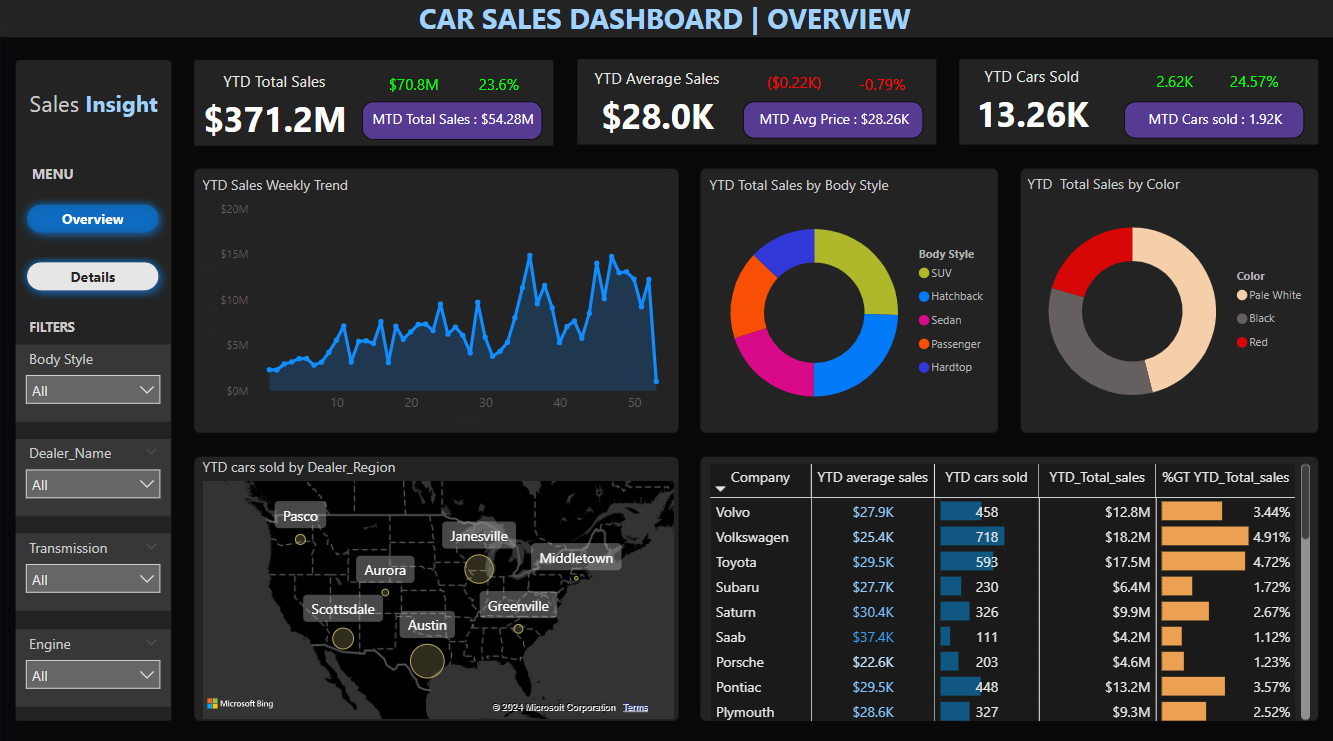

The page's visual inventory and layout, read from the dashboard file:
{"tool":"powerbi","page":{"name":"Overview","canvas":[1280,720],"ordinal":0},"visuals":[{"type":"card","title":"YTD Total Sales","fields":{"Values":["car_data.YTD_Total_sales"]},"box":[189.3,71.2,148.4,72.7],"z":0},{"type":"card","fields":{"Values":["car_data.sales difference"]},"box":[358.9,71.2,75.7,30.3],"z":1000},{"type":"card","fields":{"Values":["car_data.Sales difference percentage"]},"box":[434.6,71.2,89.3,30.3],"z":2000},{"type":"card","fields":{"Values":["car_data.MTD KPI"]},"box":[348.3,101.5,172.6,36.3],"z":3000},{"type":"card","title":"YTD Average Sales","fields":{"Values":["car_data.YTD average sales"]},"box":[555.7,69.7,148.4,72.7],"z":4000},{"type":"card","fields":{"Values":["car_data.YOY avg price growth"]},"box":[807.1,71.2,75.7,30.3],"z":5000},{"type":"card","fields":{"Values":["car_data.MTD avg KPI"]},"box":[712.6,102.5,172.9,35.2],"z":6000},{"type":"card","fields":{"Values":["car_data.Avg price diff"]},"box":[722.2,70.5,76.9,30.4],"z":7000},{"type":"card","title":"YTD Cars Sold","fields":{"Values":["car_data.YTD cars sold"]},"box":[916.1,68.1,148.4,72.7],"z":8000},{"type":"card","fields":{"Values":["car_data.Cars sold diff"]},"box":[1087.3,68.9,76.9,30.4],"z":9000},{"type":"card","fields":{"Values":["car_data.YOY cars sold growth"]},"box":[1164.2,68.9,76.9,30.4],"z":10000},{"type":"card","fields":{"Values":["car_data.MTD CARS KPI"]},"box":[1077.7,102.5,172.9,35.2],"z":11000},{"type":"areaChart","title":"YTD Sales Weekly Trend","fields":{"Category":["calender Table.Week"],"Y":["Sum(car_data.Price ($))"]},"box":[189.3,172.6,461.8,245.3],"z":12000},{"type":"donutChart","fields":{"Category":["car_data.Body Style"],"Y":["Sum(car_data.Price ($))"]},"box":[675.3,172.6,281.6,245.3],"z":13000},{"type":"donutChart","fields":{"Category":["car_data.Color"],"Y":["Sum(car_data.Price ($))"]},"box":[979.7,171.1,281.6,245.3],"z":14000},{"type":"map","fields":{"Size":["car_data.YTD cars sold"],"Category":["car_data.Dealer_Region"]},"box":[189.3,442.1,461.8,255.9],"z":15000},{"type":"tableEx","fields":{"Values":["car_data.Company","car_data.YTD average sales","car_data.YTD cars sold","car_data.YTD_Total_sales","Divide(car_data.YTD_Total_sales, ScopedEval(car_data.YTD_Total_sales, []))"]},"box":[675.3,443.7,586,255.9],"z":16000},{"type":"textbox","box":[345,0,586,46.9],"z":17000},{"type":"textbox","box":[13.6,304.4,75.7,30.3],"z":18000},{"type":"slicer","fields":{"Values":["car_data.Body Style"]},"box":[15.1,334.6,148.4,74.2],"z":19000},{"type":"slicer","fields":{"Values":["car_data.Dealer_Name"]},"box":[15.1,425.5,148.4,74.2],"z":20000},{"type":"slicer","fields":{"Values":["car_data.Transmission"]},"box":[15.1,516.3,148.4,74.2],"z":21000},{"type":"slicer","fields":{"Values":["car_data.Engine"]},"box":[15.1,607.2,148.4,74.2],"z":22000},{"type":"pageNavigator","box":[15.1,189.3,148.4,106],"z":23000},{"type":"textbox","box":[16.7,157.5,68.1,28.8],"z":24000},{"type":"textbox","box":[16.7,84.8,146.9,53],"z":25000}]}

Visuals, with their boxes in screenshot pixels (x1, y1, x2, y2), scaled from the page's 1280x720 canvas onto the 1333x741 screenshot:
"YTD Total Sales" card: 197, 73, 352, 148
card - car_data.sales difference: 374, 73, 453, 104
card - car_data.Sales difference percentage: 453, 73, 546, 104
card - car_data.MTD KPI: 363, 104, 542, 142
"YTD Average Sales" card: 579, 72, 733, 147
card - car_data.YOY avg price growth: 841, 73, 919, 104
card - car_data.MTD avg KPI: 742, 105, 922, 142
card - car_data.Avg price diff: 752, 73, 832, 104
"YTD Cars Sold" card: 954, 70, 1109, 145
card - car_data.Cars sold diff: 1132, 71, 1212, 102
card - car_data.YOY cars sold growth: 1212, 71, 1292, 102
card - car_data.MTD CARS KPI: 1122, 105, 1302, 142
"YTD Sales Weekly Trend" areaChart: 197, 178, 678, 430
donutChart - car_data.Body Style x Sum(car_data.Price ($)): 703, 178, 997, 430
donutChart - car_data.Color x Sum(car_data.Price ($)): 1020, 176, 1314, 429
map - car_data.YTD cars sold x car_data.Dealer_Region: 197, 455, 678, 718
tableEx - car_data.Company x car_data.YTD average sales: 703, 457, 1314, 720
textbox: 359, 0, 970, 48
textbox: 14, 313, 93, 344
slicer - car_data.Body Style: 16, 344, 170, 421
slicer - car_data.Dealer_Name: 16, 438, 170, 514
slicer - car_data.Transmission: 16, 531, 170, 608
slicer - car_data.Engine: 16, 625, 170, 701
pageNavigator: 16, 195, 170, 304
textbox: 17, 162, 88, 192
textbox: 17, 87, 170, 142
